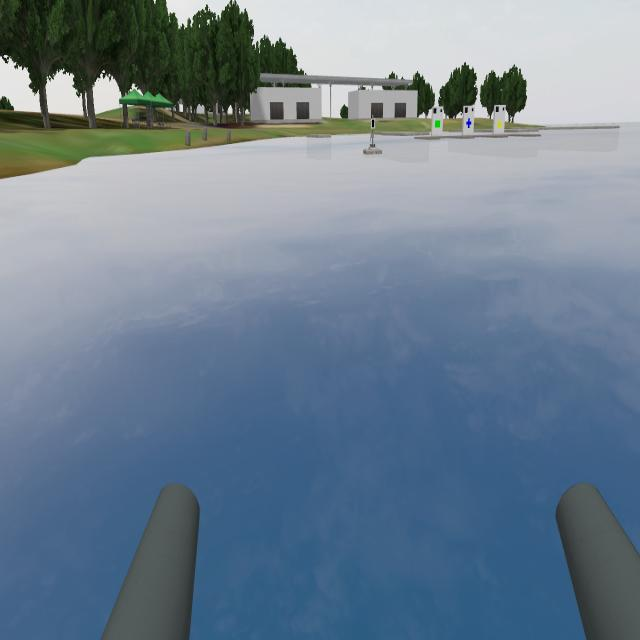black_pole: (367, 108, 379, 146)
